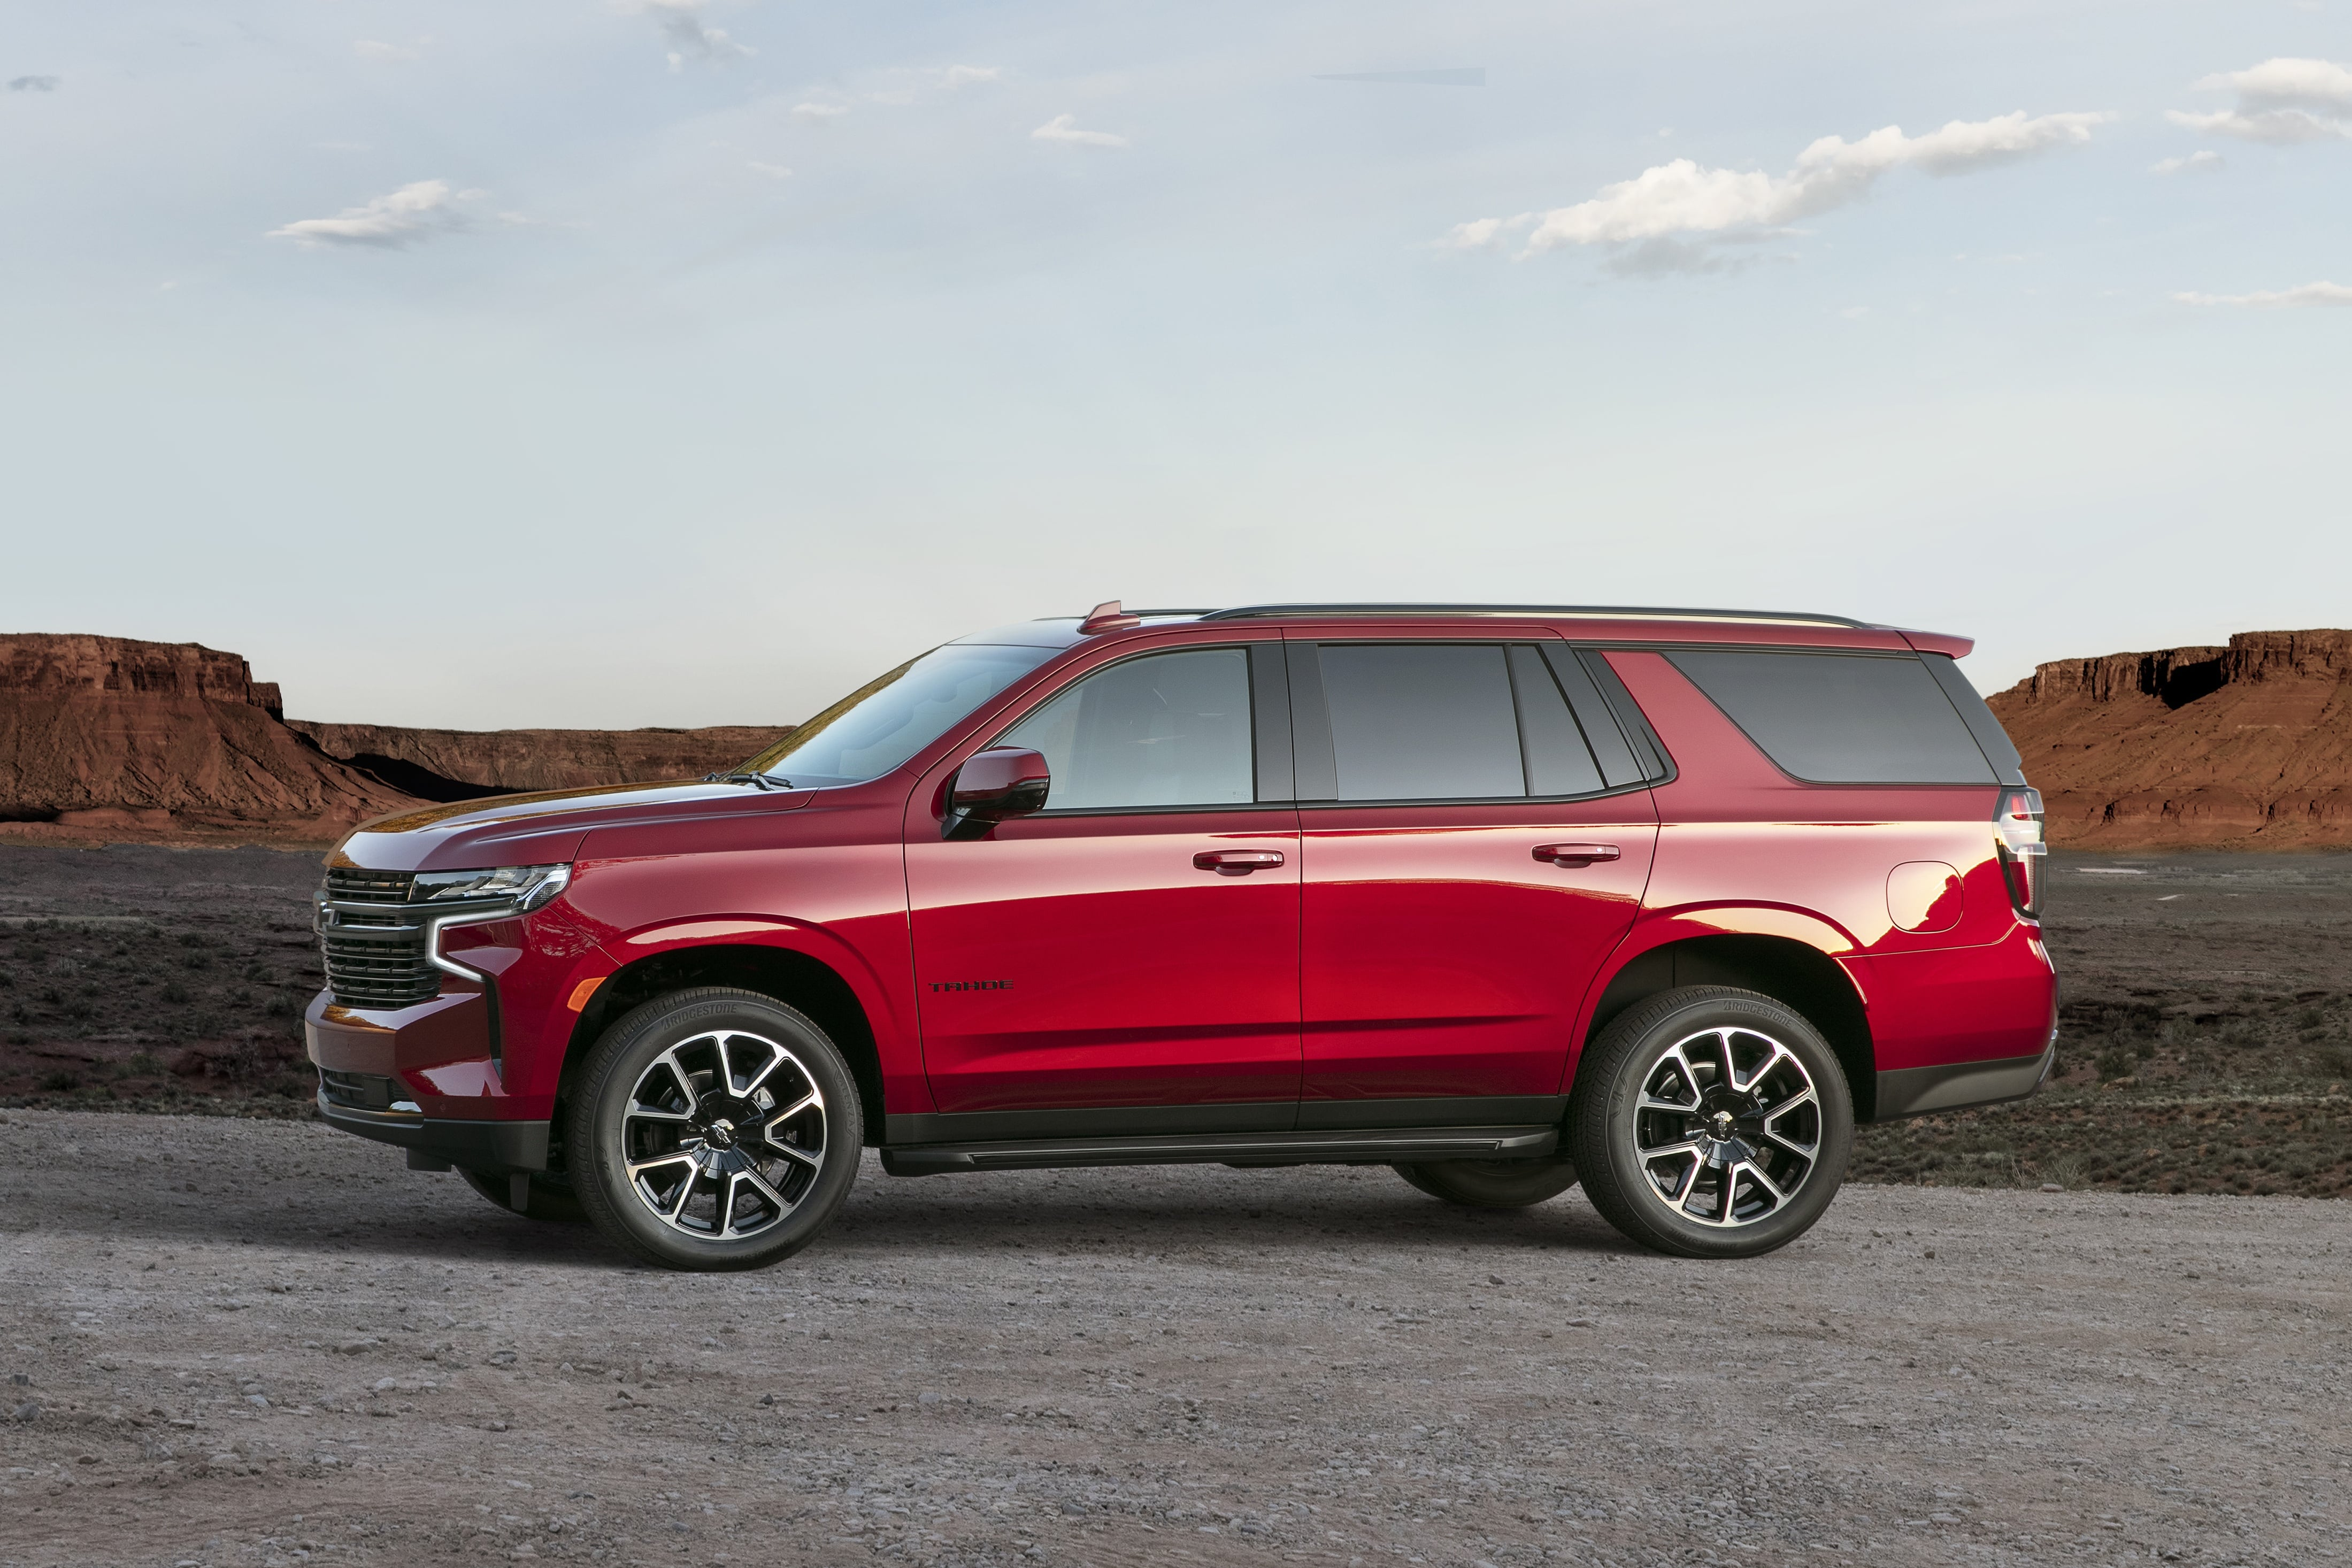car: (303, 598, 2065, 1274)
